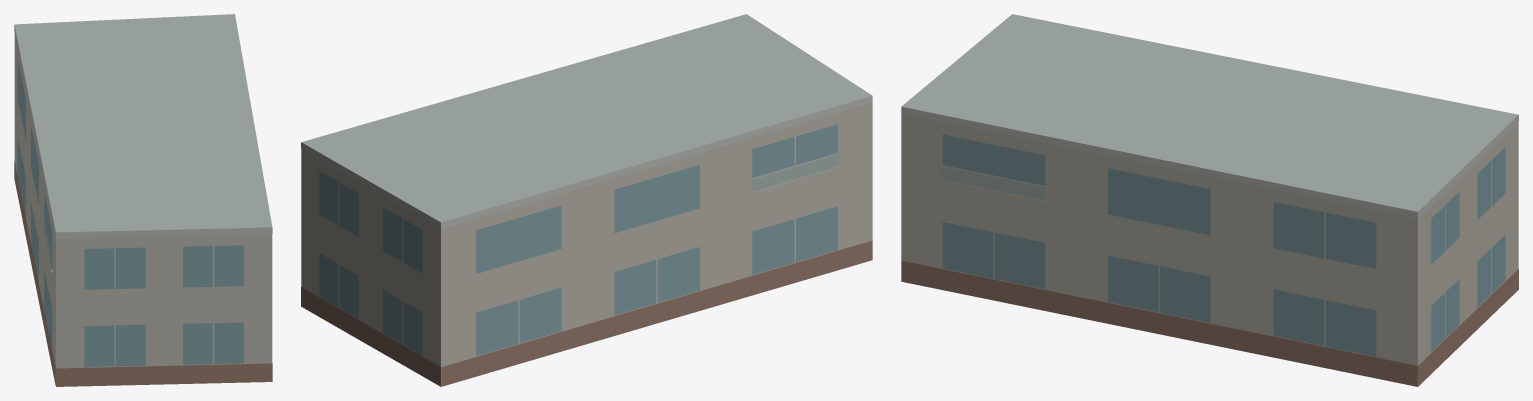
The model's file is survey-upis-32679471.glb.
3 views of the same model, side by side, from view 1: azimuth 30°, elevation 25°; view 2: azimuth 150°, elevation 25°; view 3: azimuth 270°, elevation 25° (orthographic). The views are drawn at different scales.
Parts seen in each view (by area): view 1: survey-upis-32679471.tmp; view 2: survey-upis-32679471.tmp; view 3: survey-upis-32679471.tmp.
Part boxes in pixels (x1,y1,x2,y2): survey-upis-32679471.tmp: (14,14,272,386); survey-upis-32679471.tmp: (301,14,872,386); survey-upis-32679471.tmp: (901,14,1518,386).
Bounding box in the file's own units: 14.81 × 6.1 × 19.52.
